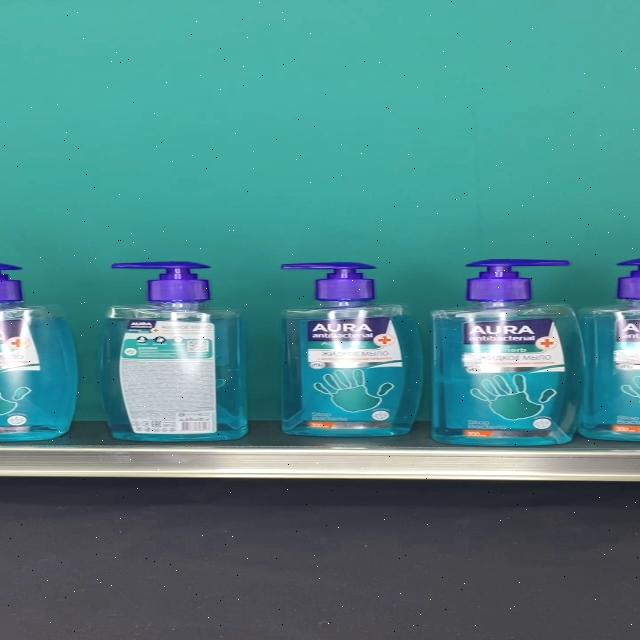Bottle: (430, 257, 586, 446), (98, 262, 249, 442), (279, 261, 423, 437)
Cap: (464, 257, 571, 303), (112, 261, 211, 303), (280, 262, 376, 302)
